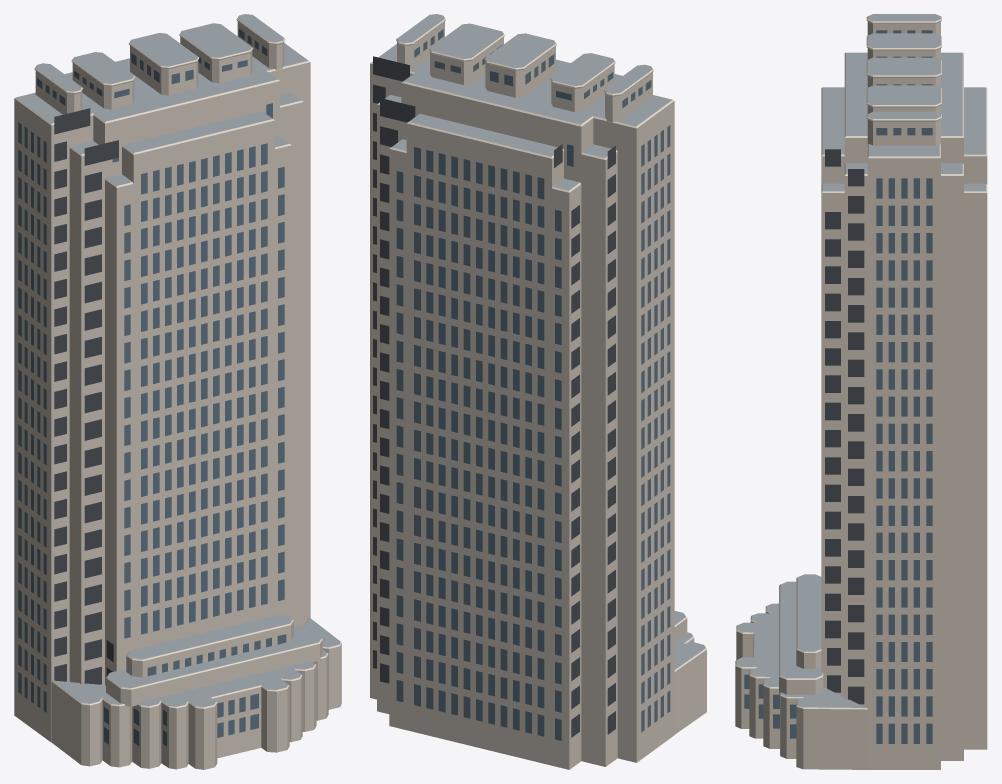
Rendered from stl-att-tower.glb.
3 views of the same model, side by side, from view 1: azimuth 30°, elevation 25°; view 2: azimuth 150°, elevation 25°; view 3: azimuth 270°, elevation 25° (orthographic). The views are drawn at different scales.
Parts seen in each view (by area): view 1: One AT&T Center; view 2: One AT&T Center; view 3: One AT&T Center.
Part boxes in pixels (left/top/right/bottom): One AT&T Center: left=14, top=14, right=341, bottom=769; One AT&T Center: left=370, top=14, right=706, bottom=769; One AT&T Center: left=735, top=14, right=987, bottom=769.
Size of the model in its own units: 77.26 by 184 by 65.36.
